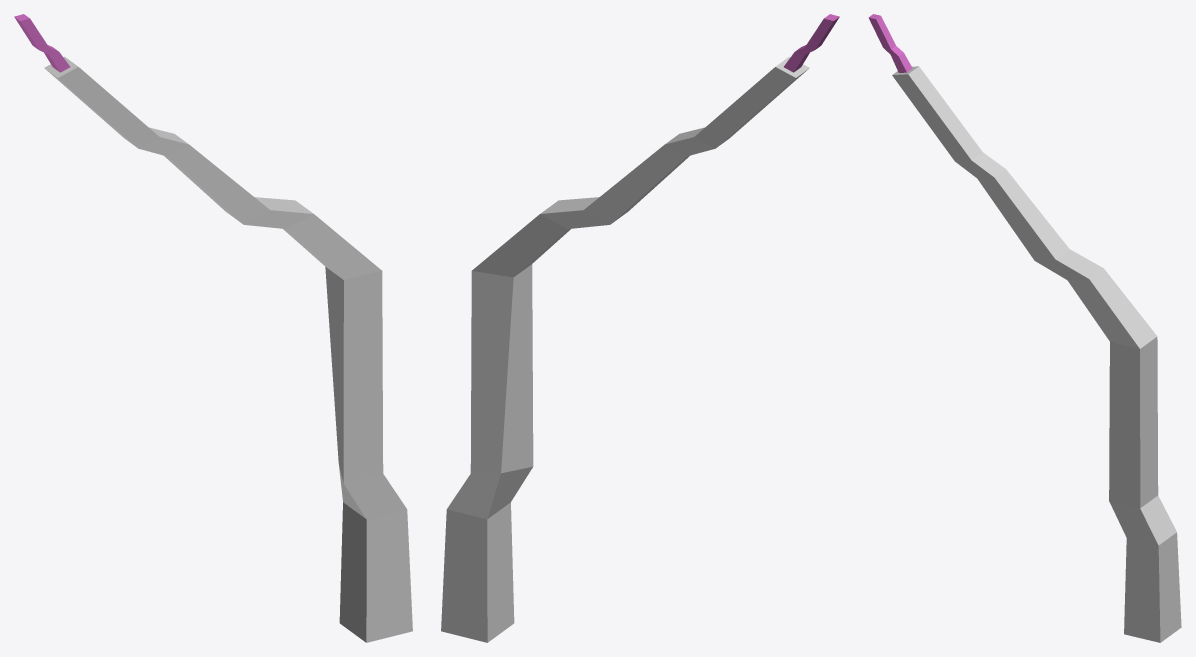
File: pillar7_low.fbx
3 renders of one model, left to right at view 1: azimuth 30°, elevation 25°; view 2: azimuth 150°, elevation 25°; view 3: azimuth 330°, elevation 25°, orthographic. The views are drawn at different scales.
Visible parts, largest first — view 1: pillar7_low; view 2: pillar7_low; view 3: pillar7_low.
Boxes of the visible parts, x1=… form: pillar7_low: x1=14, y1=14, x2=412, y2=642; pillar7_low: x1=441, y1=14, x2=839, y2=642; pillar7_low: x1=868, y1=14, x2=1181, y2=642.
Bounding box in the file's own units: 7296 × 12698 × 888.
